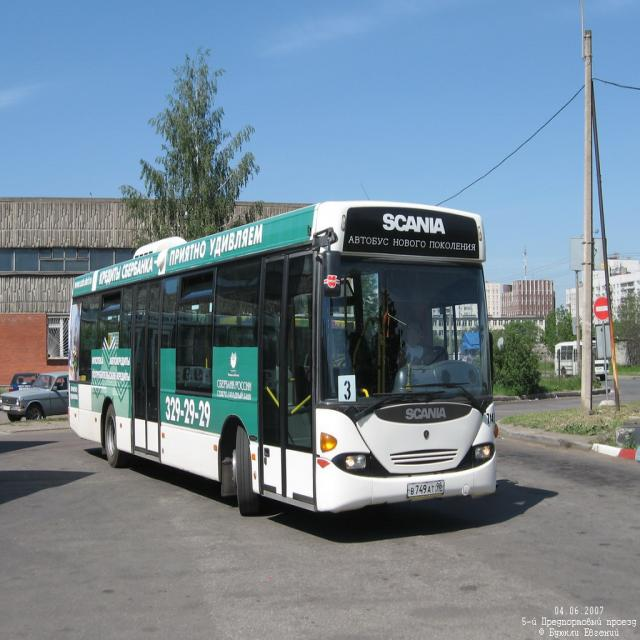number-of-bus: (339, 376, 356, 402)
